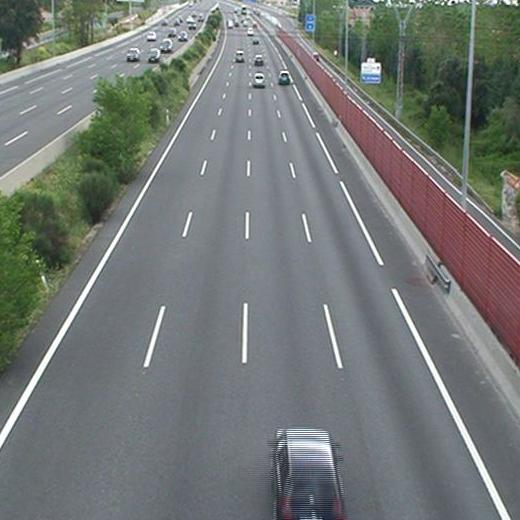car: (274, 430, 346, 520), (253, 73, 266, 87), (278, 72, 290, 84), (253, 54, 264, 65), (234, 51, 244, 63), (252, 37, 260, 43)
